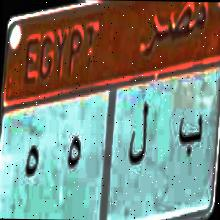5: (19, 141, 42, 187), (64, 130, 83, 177)
baa: (176, 105, 203, 166)
laam: (128, 97, 150, 174)
